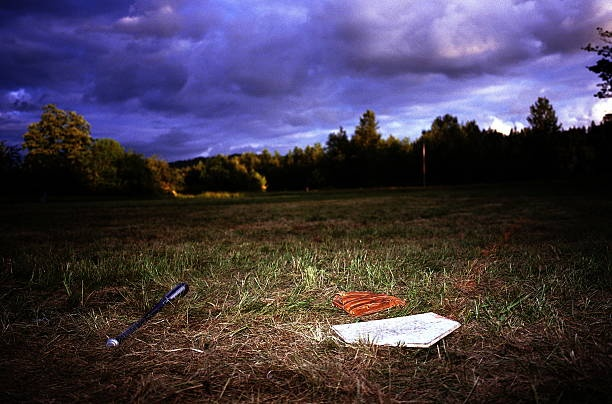bita: (104, 282, 192, 349)
